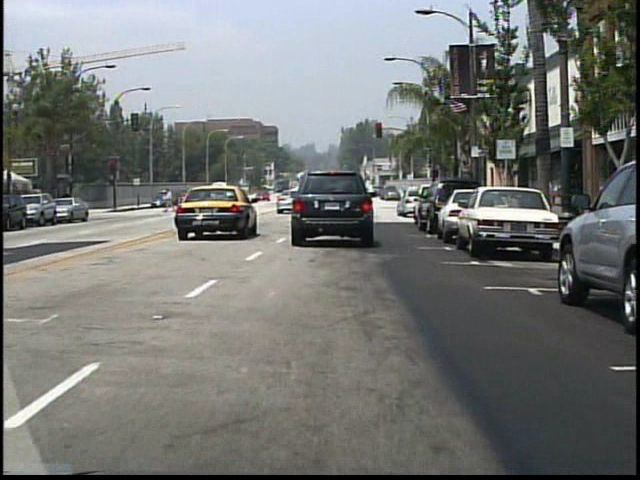person: (358, 186, 375, 217), (164, 188, 178, 214)
